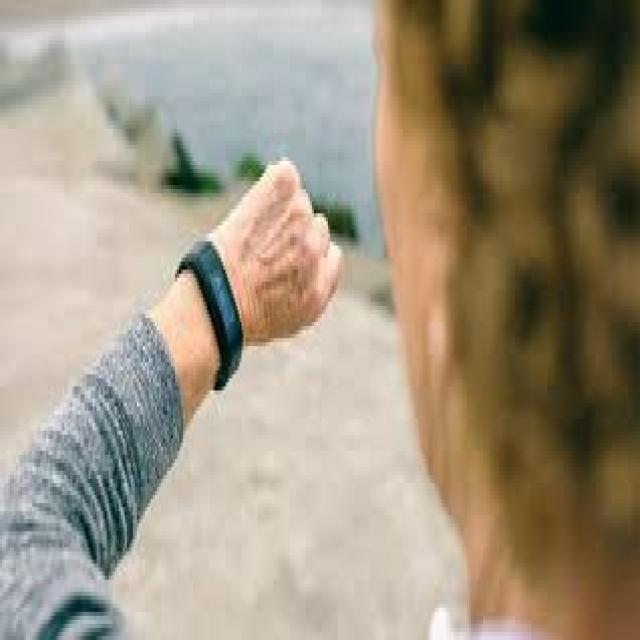objects: (175, 226, 247, 382)
